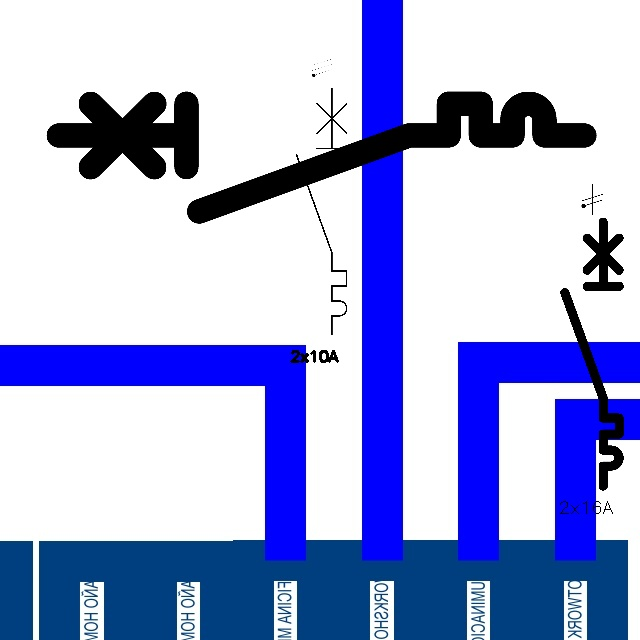interruptor_termomagnetico: (45, 90, 598, 225), (558, 215, 626, 492), (290, 82, 353, 340)
